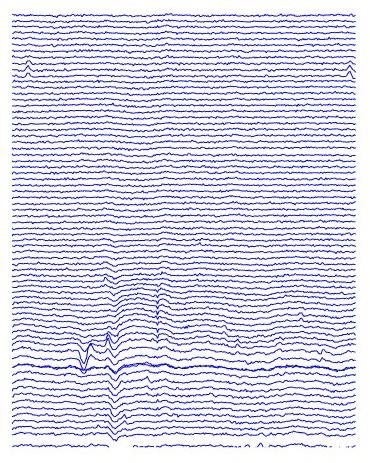defect: (74, 333, 98, 381), (21, 53, 40, 81), (341, 56, 356, 81)
